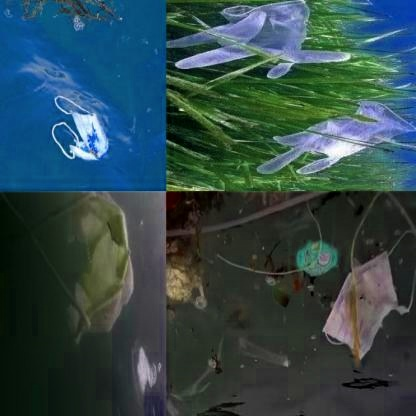Mask: (304, 193, 416, 388), (0, 191, 137, 345), (50, 93, 111, 165)
glove: (167, 0, 350, 81), (259, 97, 415, 177)
